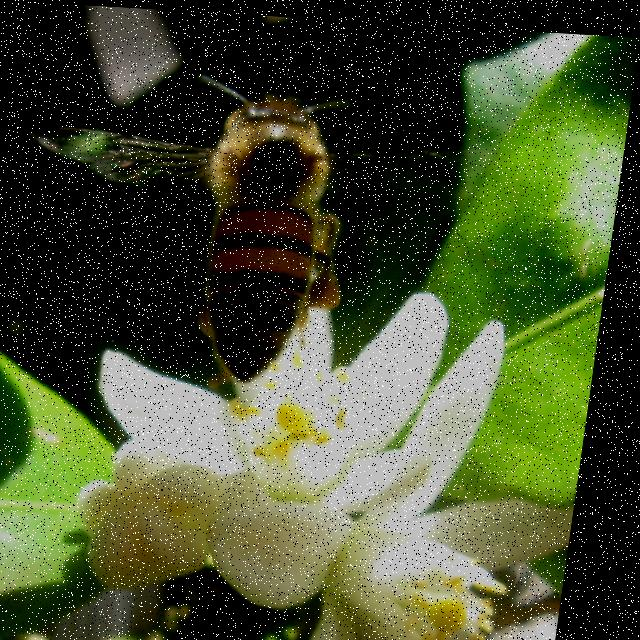Apis-mellifera-scutellata: (78, 43, 432, 418)
